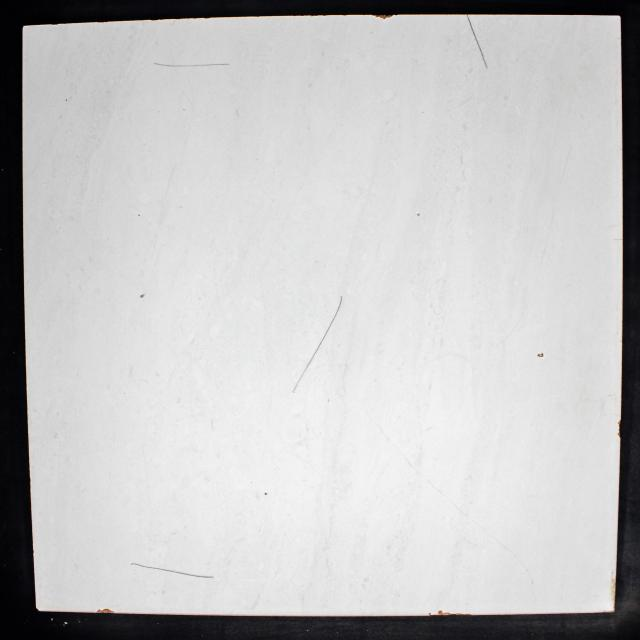edge-chipping: (427, 609, 472, 617), (372, 14, 397, 20), (617, 419, 621, 439)
hole: (537, 352, 544, 358), (139, 293, 146, 299), (416, 212, 421, 217), (264, 492, 268, 496)
line: (451, 502, 481, 530), (490, 534, 522, 560), (153, 62, 230, 68), (372, 422, 393, 444), (130, 563, 171, 572), (171, 571, 215, 579), (467, 14, 478, 42), (478, 42, 488, 70), (322, 318, 334, 341), (428, 481, 444, 498), (401, 454, 416, 471), (292, 375, 302, 394), (312, 341, 322, 358), (335, 296, 343, 317), (302, 359, 312, 374), (95, 608, 115, 614)
